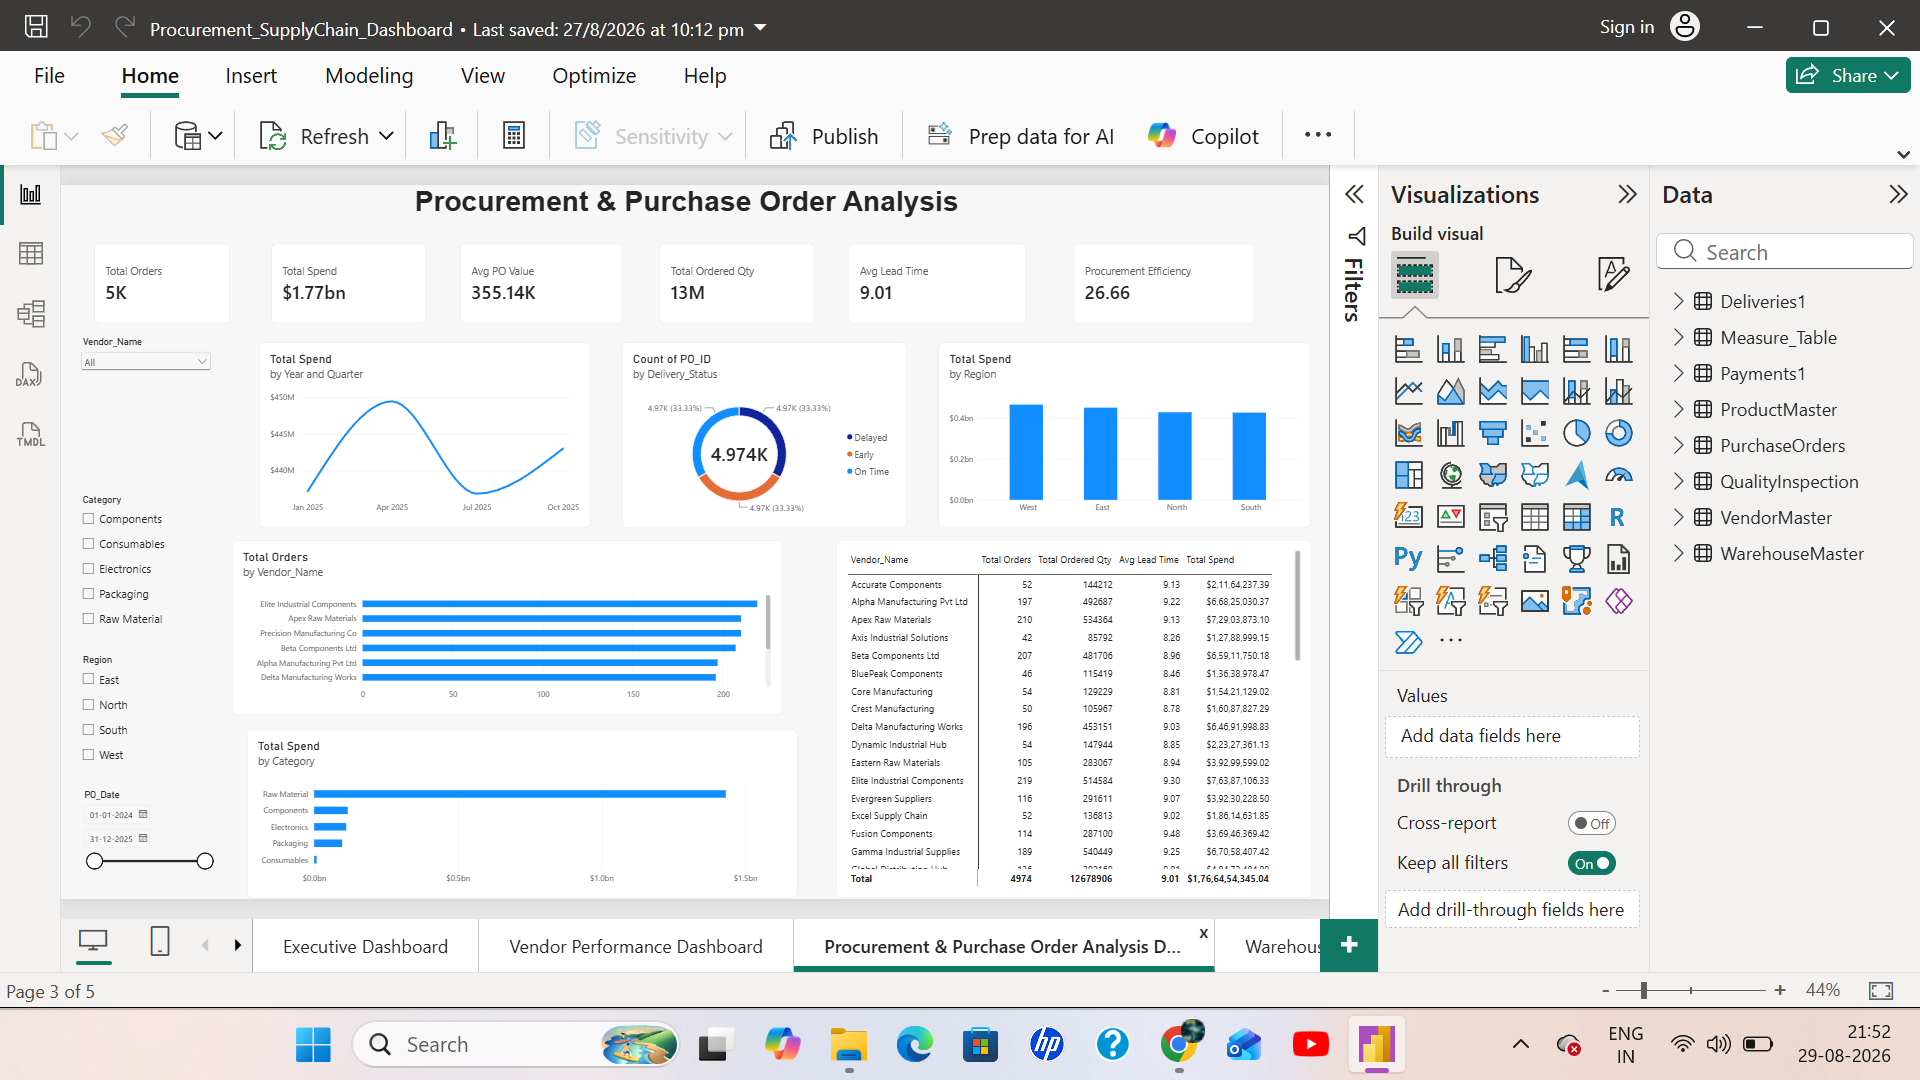

This screenshot's page, from the dashboard's own definition file:
{"tool":"powerbi","page":{"name":"Procurement & Purchase Order Analysis Dashboard.","canvas":[1920,1080],"ordinal":2},"visuals":[{"type":"cardVisual","fields":{"Data":["Measure_Table.Total Orders"]},"box":[51,87.9,206.9,121.9],"z":0},{"type":"cardVisual","fields":{"Data":["Measure_Table.Total Spend"]},"box":[317.5,87.9,235.3,121.9],"z":1},{"type":"cardVisual","fields":{"Data":["Measure_Table.Avg PO Value"]},"box":[603.8,87.9,246.6,121.9],"z":2},{"type":"cardVisual","fields":{"Data":["Measure_Table.Total Ordered Qty"]},"box":[907.1,87.9,235.3,121.9],"z":3},{"type":"lineChart","fields":{"Category":["PurchaseOrders.PO_Date.Variation.Date Hierarchy.Year","PurchaseOrders.PO_Date.Variation.Date Hierarchy.Quarter","PurchaseOrders.PO_Date.Variation.Date Hierarchy.Month"],"Y":["Measure_Table.Total Spend"]},"box":[300.5,238.1,501.7,280.6],"z":4},{"type":"clusteredBarChart","fields":{"Category":["ProductMaster.Category"],"Y":["Measure_Table.Total Spend"]},"box":[280.6,824.9,833.4,255.1],"z":5},{"type":"barChart","fields":{"Category":["VendorMaster.Vendor_Name"],"Y":["Measure_Table.Total Orders"]},"box":[258,538.6,833.4,263.6],"z":6},{"type":"donutChart","fields":{"Category":["Deliveries1.Delivery_Status"],"Y":["CountNonNull(PurchaseOrders.PO_ID)"]},"box":[850.4,238.1,430.9,280.6],"z":7},{"type":"clusteredColumnChart","fields":{"Category":["WarehouseMaster.Region"],"Y":["Measure_Table.Total Spend"]},"box":[1329.5,238.1,564.1,280.6],"z":8},{"type":"pivotTable","fields":{"Rows":["VendorMaster.Vendor_Name"],"Values":["Measure_Table.Total Orders","Measure_Table.Total Ordered Qty","Deliveries1.Avg Lead Time","Measure_Table.Total Spend"]},"box":[1173.6,538.6,720,541.4],"z":9},{"type":"cardVisual","fields":{"Data":["Deliveries1.Avg Lead Time"]},"box":[1193.4,87.9,269.3,121.9],"z":10},{"type":"cardVisual","fields":{"Data":["Deliveries1.Procurement Efficiency"]},"box":[1533.6,87.9,275,121.9],"z":11},{"type":"slicer","fields":{"Values":["VendorMaster.Vendor_Name"]},"box":[25.5,229.6,206.9,212.6],"z":12},{"type":"slicer","fields":{"Values":["ProductMaster.Category"]},"box":[25.5,467.7,206.9,212.6],"z":13},{"type":"slicer","fields":{"Values":["VendorMaster.Region"]},"box":[25.5,711.5,206.9,178.6],"z":14},{"type":"slicer","fields":{"Values":["PurchaseOrders.PO_Date"]},"box":[28.3,915.6,206.9,164.4],"z":15},{"type":"textbox","box":[317.5,0,1258.6,87.9],"z":16}]}

Visuals, with their boxes on the page's 1920x1080 design canvas (x1, y1, x2, y2). These are canvas units, not pixel positions in the 1920x1080 screenshot, which may show the page scaled, cropped or inside an application window:
cardVisual - Measure_Table.Total Orders: x1=51, y1=88, x2=258, y2=210
cardVisual - Measure_Table.Total Spend: x1=318, y1=88, x2=553, y2=210
cardVisual - Measure_Table.Avg PO Value: x1=604, y1=88, x2=850, y2=210
cardVisual - Measure_Table.Total Ordered Qty: x1=907, y1=88, x2=1142, y2=210
lineChart - PurchaseOrders.PO_Date.Variation.Date Hierarchy.Year x PurchaseOrders.PO_Date.Variation.Date Hierarchy.Quarter: x1=300, y1=238, x2=802, y2=519
clusteredBarChart - ProductMaster.Category x Measure_Table.Total Spend: x1=281, y1=825, x2=1114, y2=1080
barChart - VendorMaster.Vendor_Name x Measure_Table.Total Orders: x1=258, y1=539, x2=1091, y2=802
donutChart - Deliveries1.Delivery_Status x CountNonNull(PurchaseOrders.PO_ID): x1=850, y1=238, x2=1281, y2=519
clusteredColumnChart - WarehouseMaster.Region x Measure_Table.Total Spend: x1=1330, y1=238, x2=1894, y2=519
pivotTable - VendorMaster.Vendor_Name x Measure_Table.Total Orders: x1=1174, y1=539, x2=1894, y2=1080
cardVisual - Deliveries1.Avg Lead Time: x1=1193, y1=88, x2=1463, y2=210
cardVisual - Deliveries1.Procurement Efficiency: x1=1534, y1=88, x2=1809, y2=210
slicer - VendorMaster.Vendor_Name: x1=26, y1=230, x2=232, y2=442
slicer - ProductMaster.Category: x1=26, y1=468, x2=232, y2=680
slicer - VendorMaster.Region: x1=26, y1=712, x2=232, y2=890
slicer - PurchaseOrders.PO_Date: x1=28, y1=916, x2=235, y2=1080
textbox: x1=318, y1=0, x2=1576, y2=88
